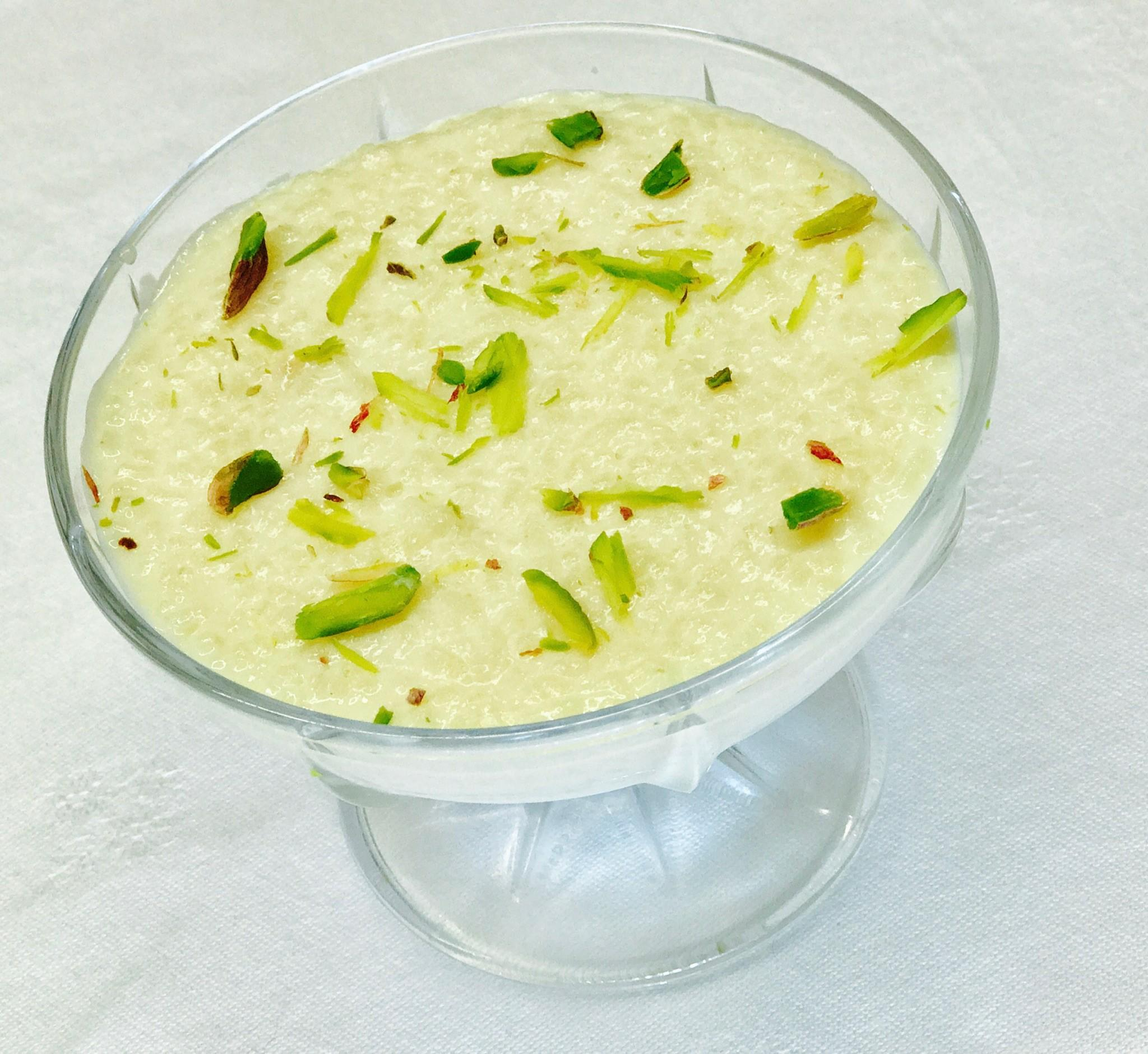Kheer: (77, 92, 953, 726)
